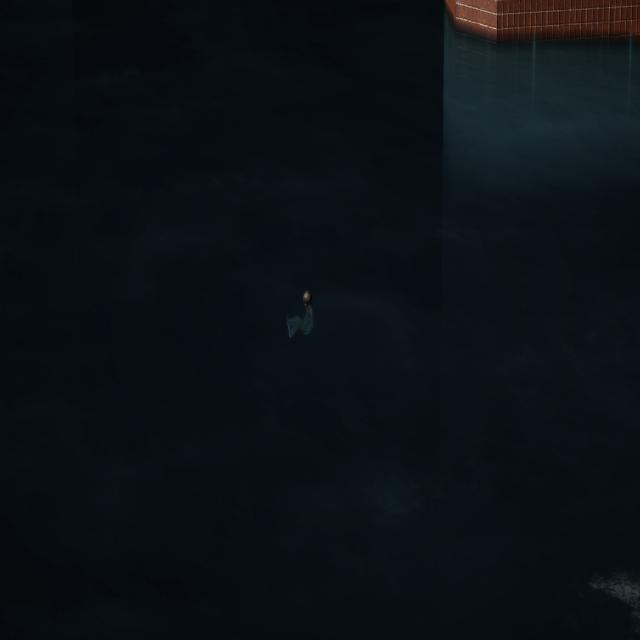Human: (282, 281, 318, 352)
